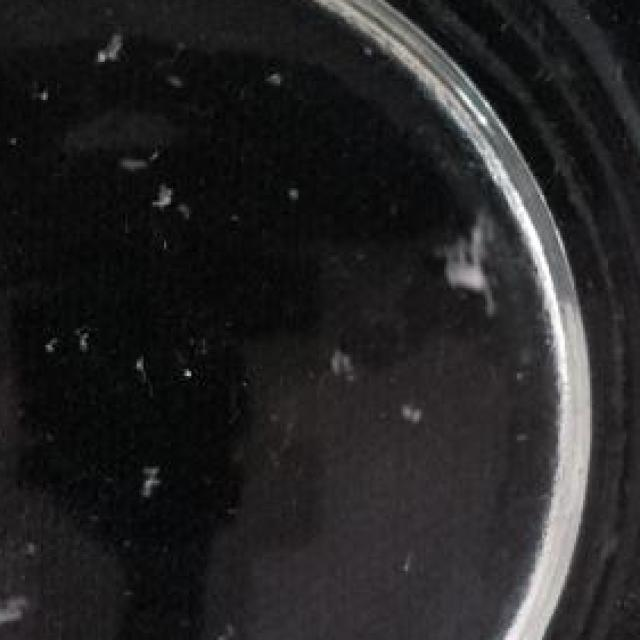Microplastic: (442, 214, 501, 321), (314, 335, 364, 388), (0, 578, 39, 638), (155, 167, 189, 221), (128, 466, 164, 512), (87, 31, 132, 64), (401, 395, 430, 433)
